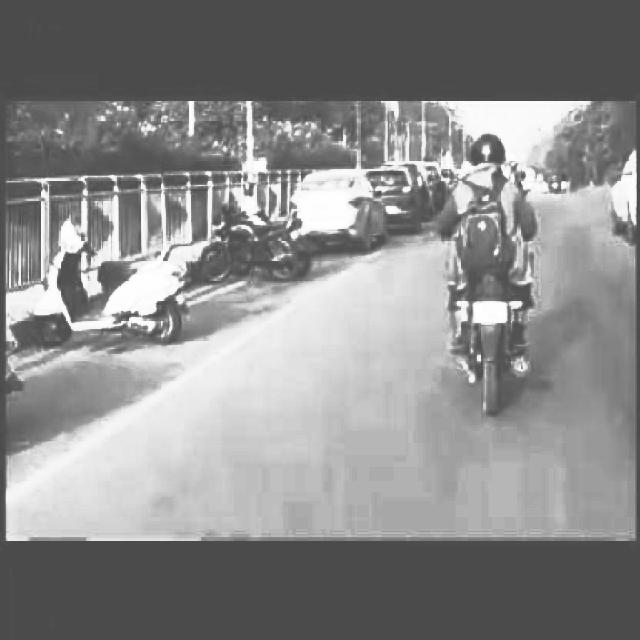Car: (294, 154, 368, 254), (380, 158, 444, 221), (604, 140, 638, 258)
